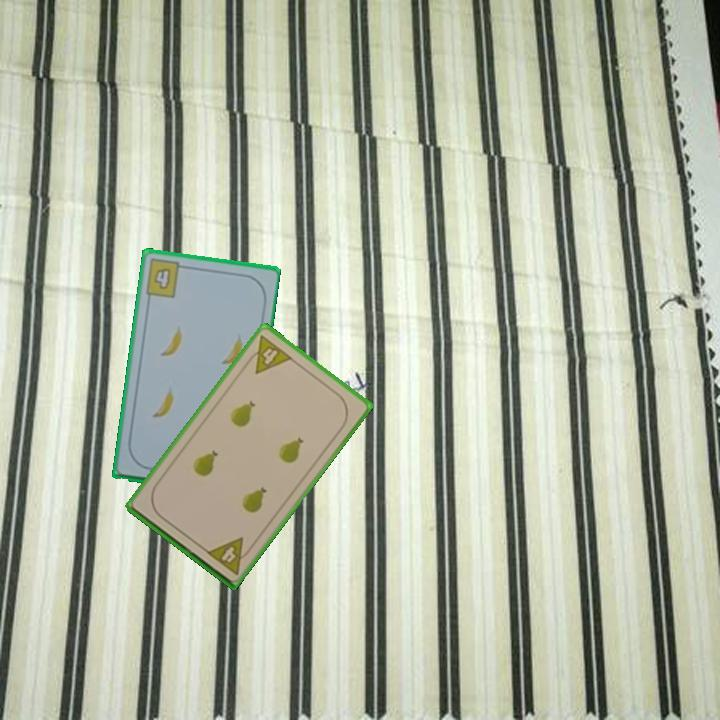4b: (142, 255, 189, 301)
4p: (241, 332, 295, 377), (203, 533, 256, 578)
